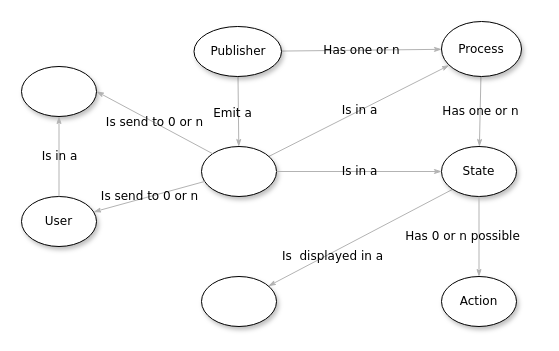
This 559x351 diagram has some shape labels left out. Here are the shapes that lost their labels. From the top down, the centre of each, then its label:
the point at 59,93: Group
the point at 239,173: Card
the point at 239,303: Card Layout
